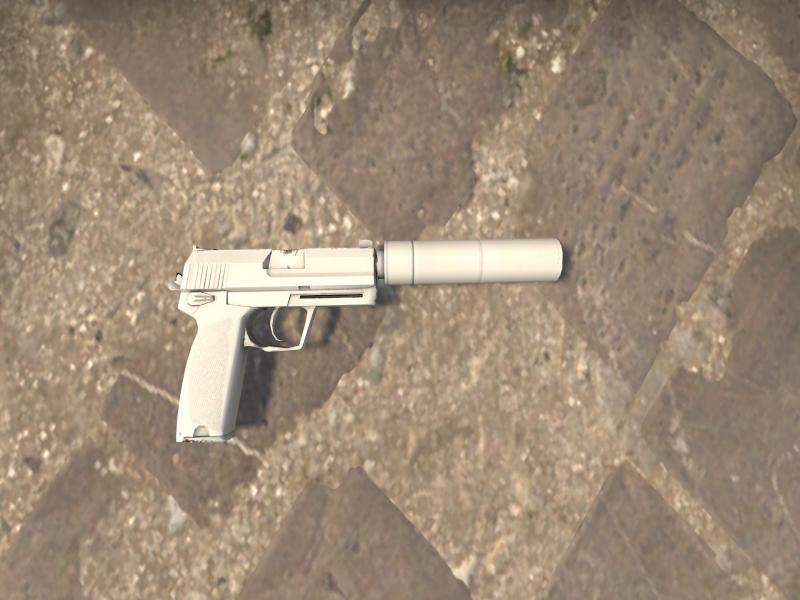USP: (168, 238, 563, 442)
